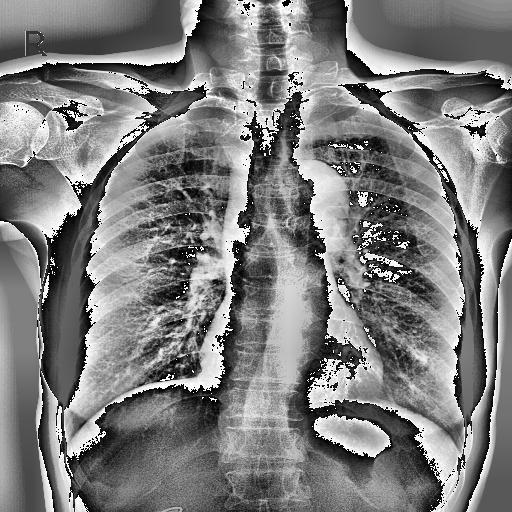0- Aortic enlargement: (268, 159, 348, 240), (280, 162, 350, 220), (286, 158, 349, 218)
5- ILD: (73, 270, 154, 406), (409, 269, 464, 422)
